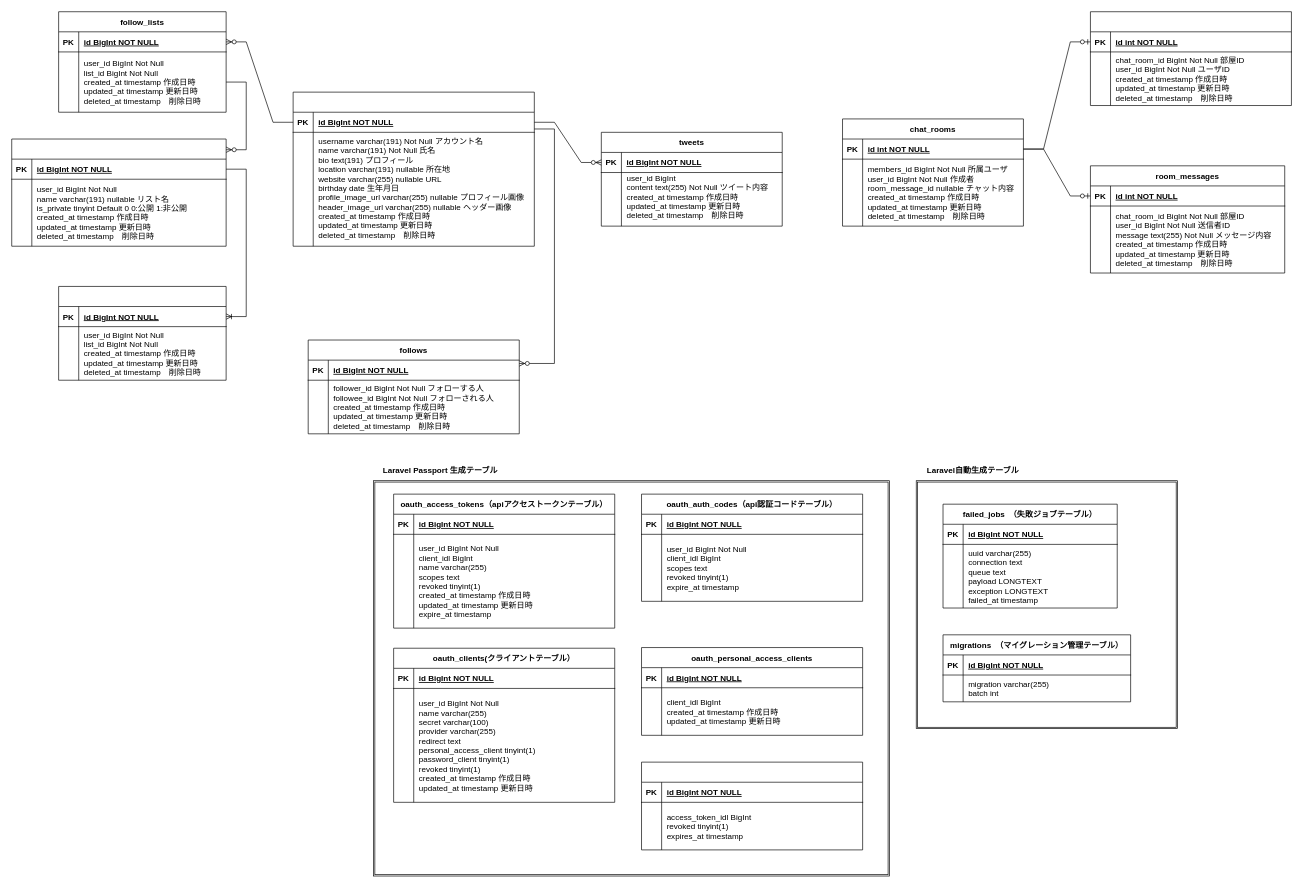
Some shapes in this 1303 by 888 pixel diagram are drawn without their labels. The box of each missing label's shape, as (x1, y1, x2, y2) in pixels:
list_members: (58, 286, 226, 380)
lists: (11, 138, 226, 246)
members: (1090, 11, 1291, 106)
oauth_refresh_tokens: (641, 761, 863, 850)
users: (292, 91, 534, 246)
